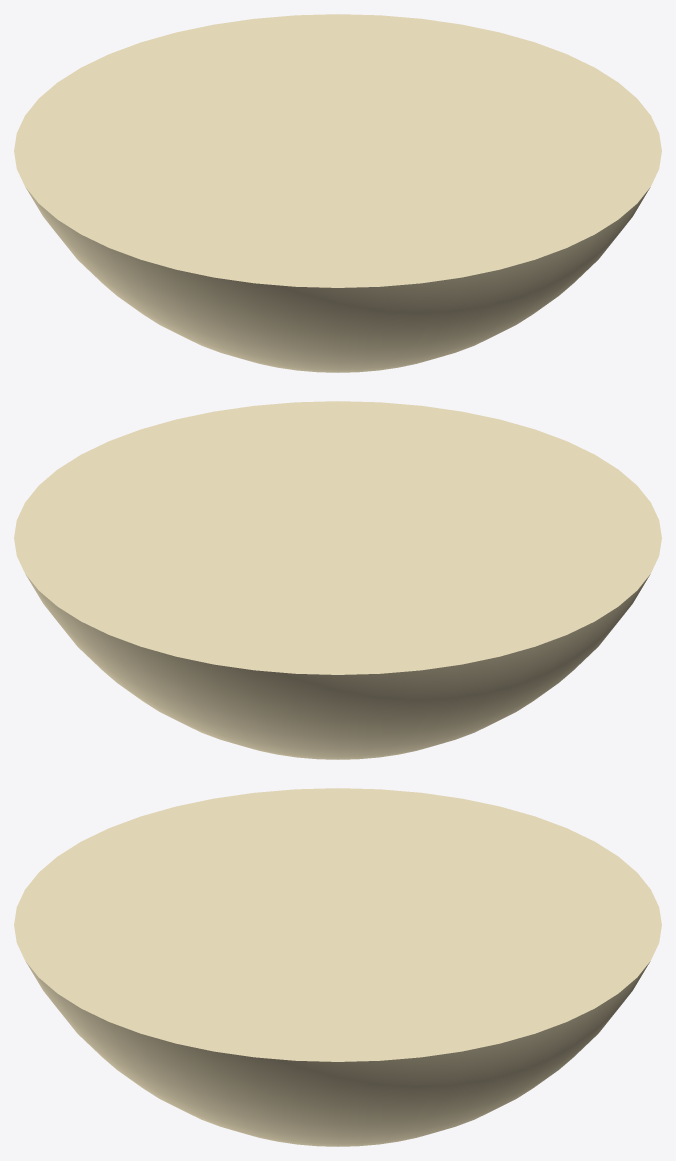
Rendered from sand.glb.
3 renders of one model, top to bottom at view 1: azimuth 30°, elevation 25°; view 2: azimuth 150°, elevation 25°; view 3: azimuth 270°, elevation 25°, orthographic.
Visible parts, largest first — view 1: sand_top, sand_bottom; view 2: sand_top, sand_bottom; view 3: sand_top, sand_bottom.
Boxes of the visible parts, x1=… form: sand_top: x1=14, y1=14, x2=661, y2=287; sand_bottom: x1=25, y1=187, x2=650, y2=372; sand_top: x1=14, y1=401, x2=661, y2=674; sand_bottom: x1=25, y1=574, x2=650, y2=759; sand_top: x1=14, y1=788, x2=661, y2=1061; sand_bottom: x1=25, y1=961, x2=650, y2=1146.
Size of the model in its own units: 0.8727 by 0.286 by 0.8727.
